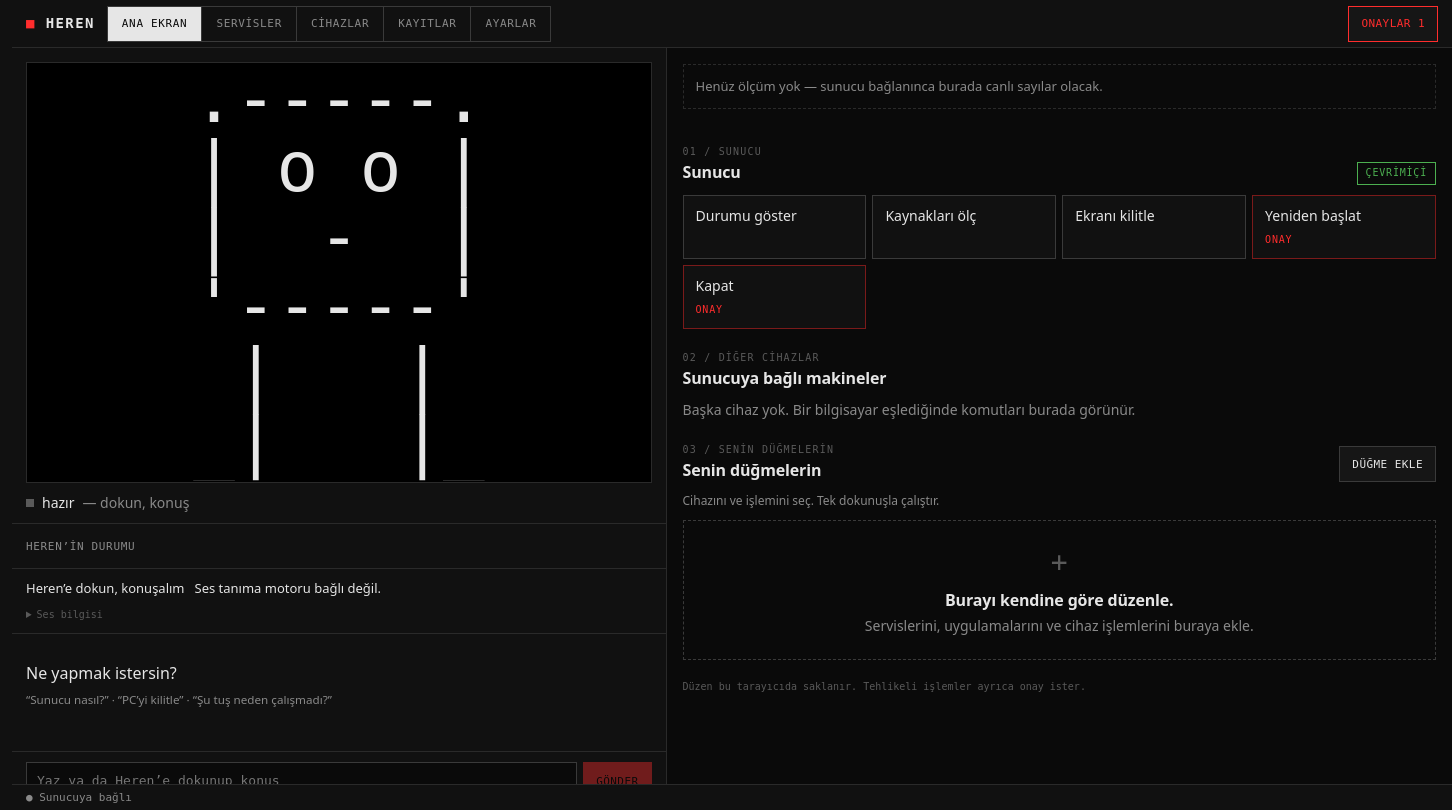
Test: two-half home screen › tapping Heren starts listening and the screen says so
Click the element with test id "character-stage" at (339, 273), box [26,62,652,483]
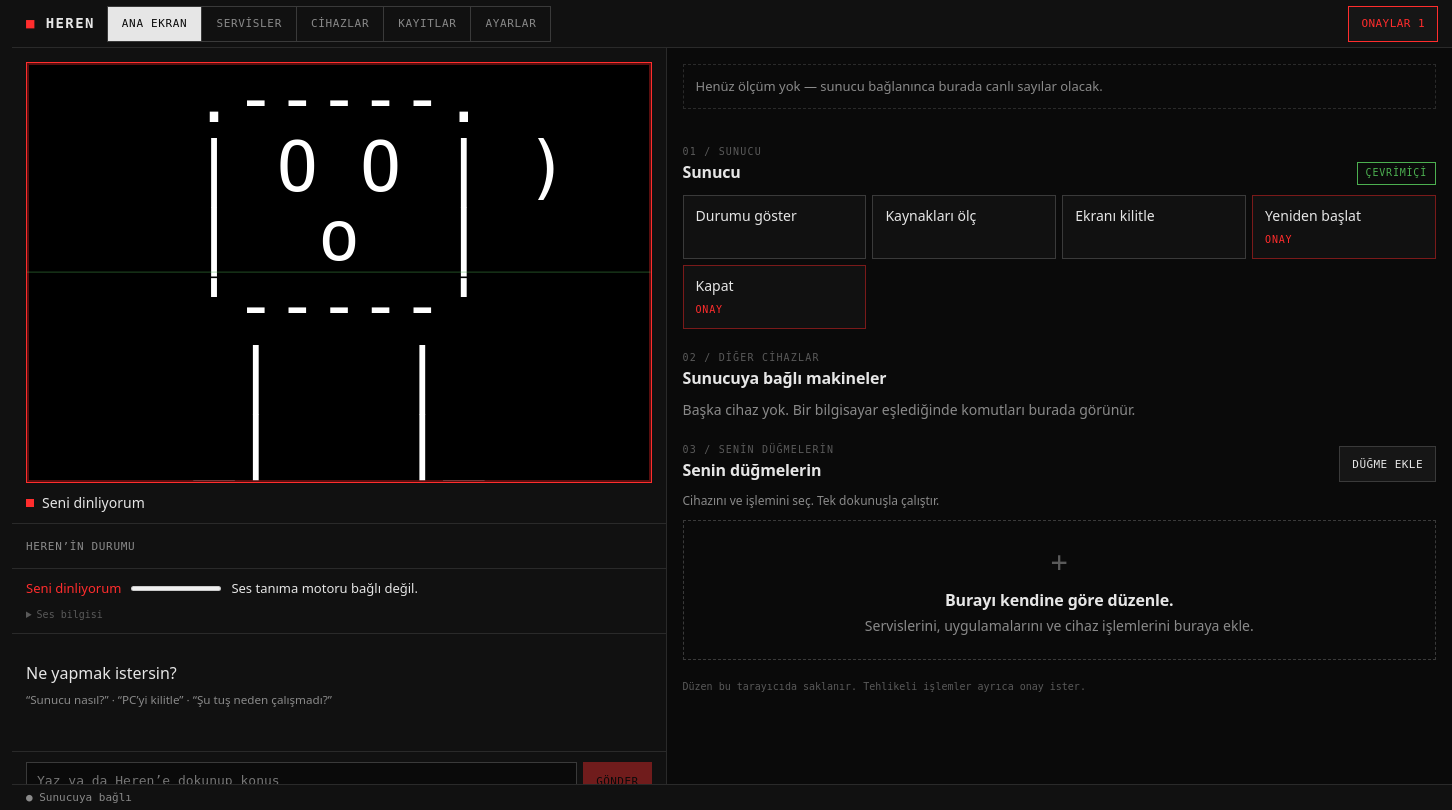
expect the message with test id "voice-status" reads "Seni dinliyorum": met, box [26,580,121,598]
